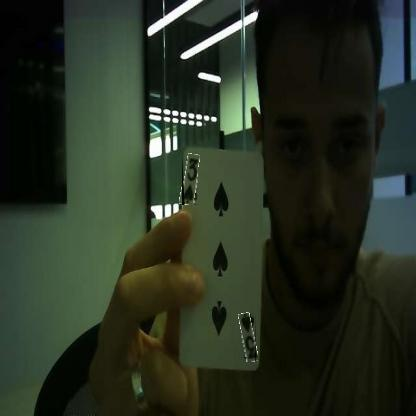3S: (182, 154, 198, 205), (241, 313, 256, 362)
